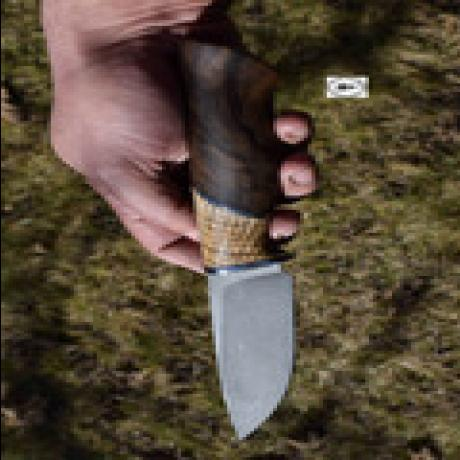1: (31, 0, 315, 275)
weapon: (182, 34, 298, 443)
